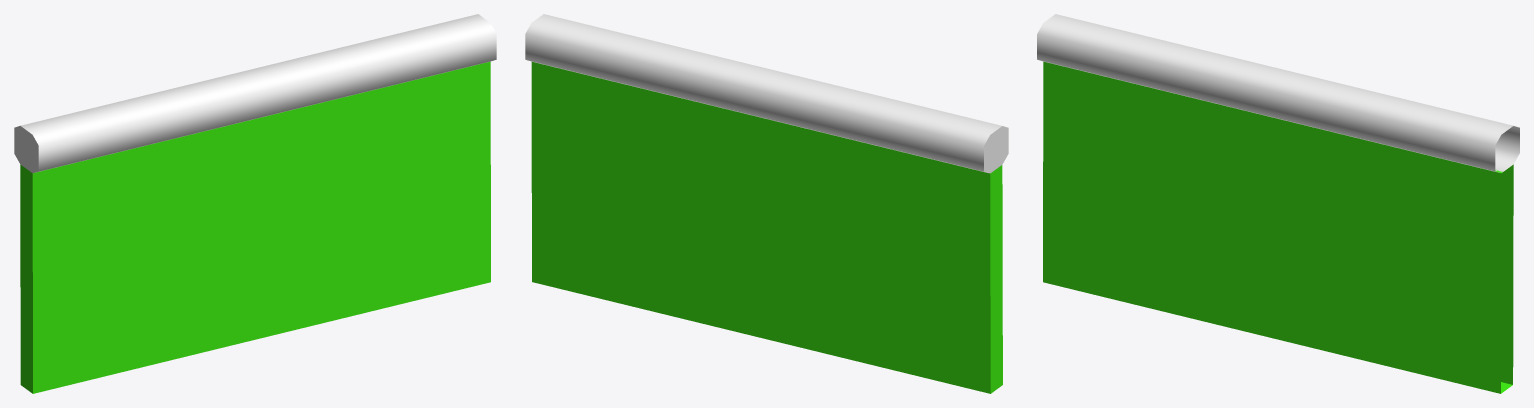
The model's file is Glass_Barrier_Straight_Capped.fbx.
3 renders of one model, left to right at view 1: azimuth 30°, elevation 25°; view 2: azimuth 150°, elevation 25°; view 3: azimuth 330°, elevation 25°, orthographic.
Visible parts, largest first — view 1: Barrier_GlassStraight_02; view 2: Barrier_GlassStraight_02; view 3: Barrier_GlassStraight_02.
Boxes of the visible parts, box(x1,y1,x2,y2) form: Barrier_GlassStraight_02: box(14, 14, 496, 393); Barrier_GlassStraight_02: box(525, 14, 1008, 393); Barrier_GlassStraight_02: box(1037, 14, 1519, 393).
Bounding box in the file's own units: 8 × 4.32 × 0.7436.
